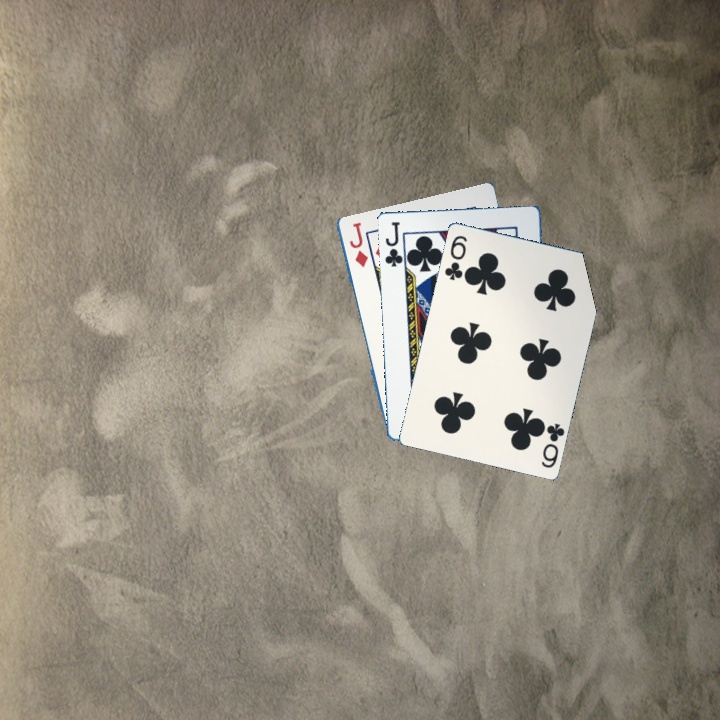10D.png: (345, 219, 370, 270)
3D.png: (441, 231, 470, 283), (537, 419, 566, 470)
AH.png: (381, 218, 405, 269)
